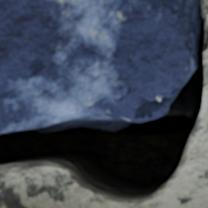brick: (0, 0, 198, 131)
crack: (0, 2, 207, 206)
